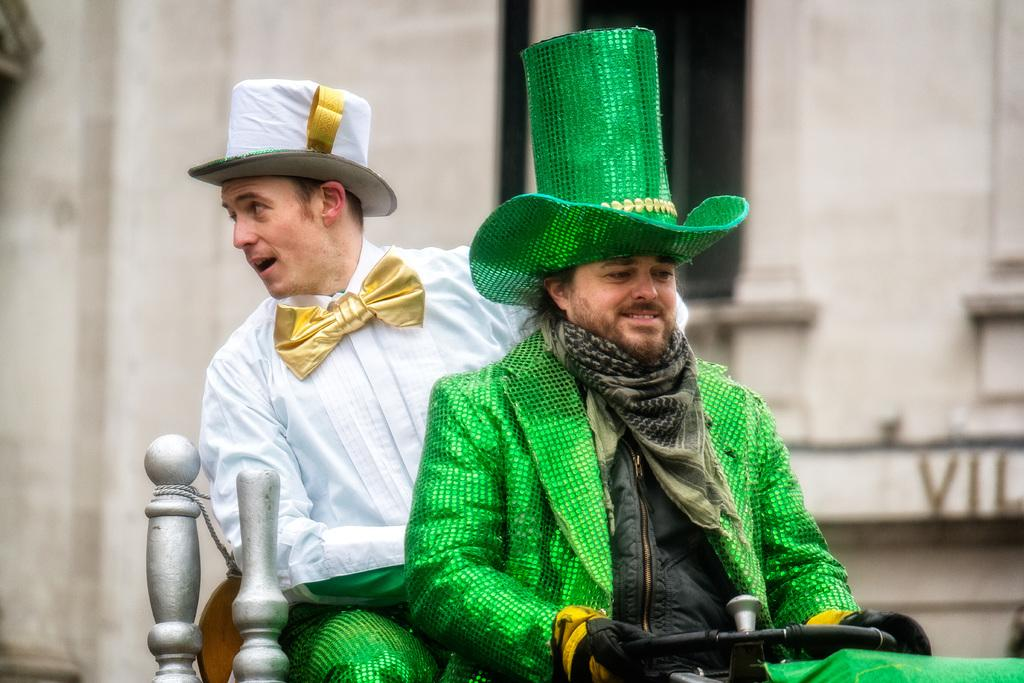Hat: (468, 26, 753, 309), (188, 81, 396, 218)
